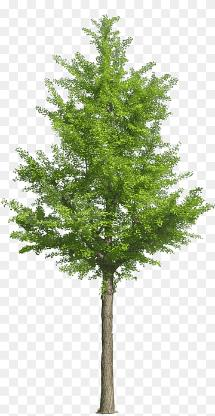tree: (2, 8, 215, 413)
